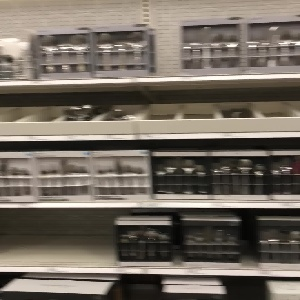void: (1, 206, 114, 269)
